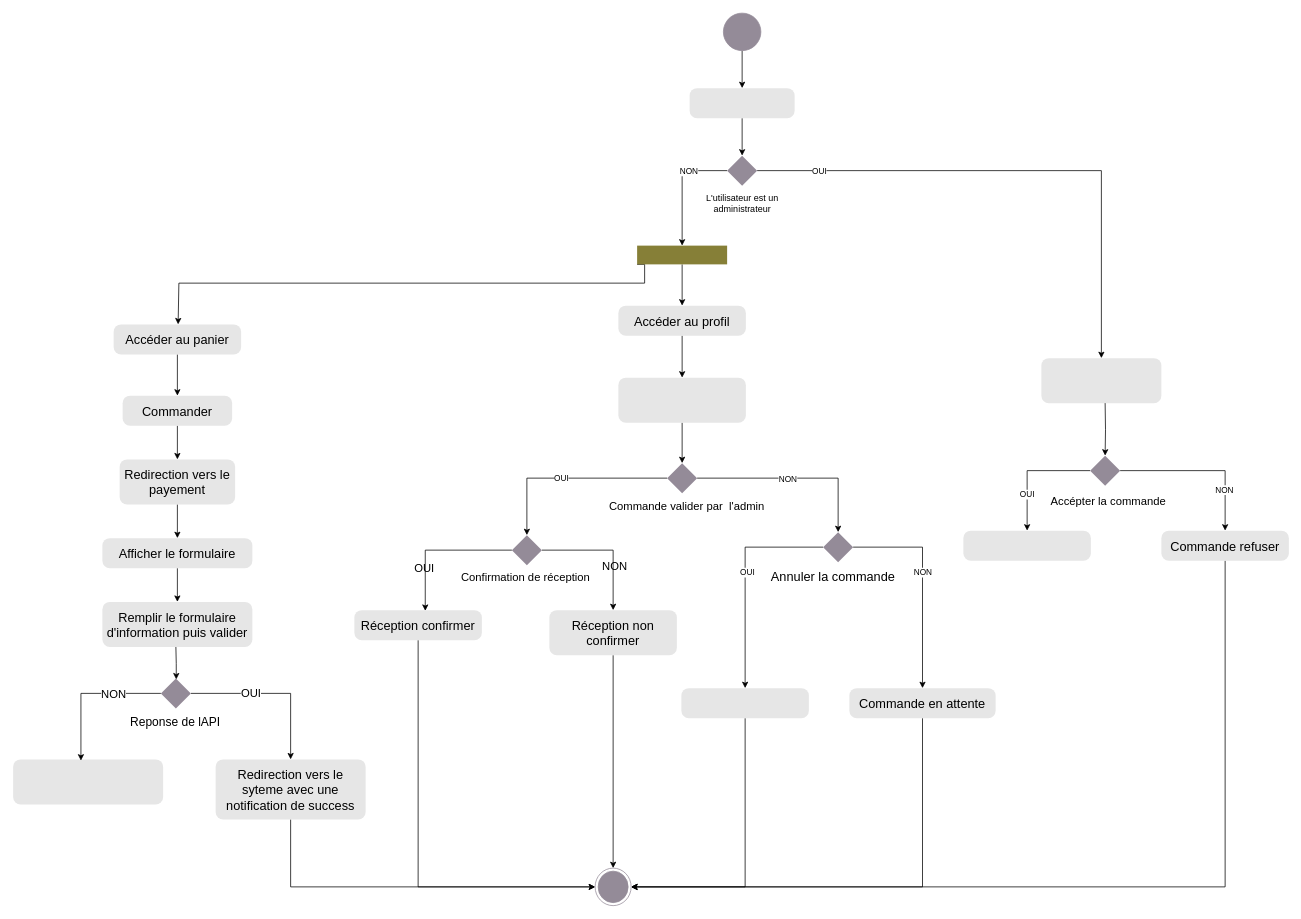
Some shapes in this 1301 by 919 pixel diagram are drawn without their labels. The shapes that lost their labels are listed below. From the top down, each one's box as (x1, y1, x2, y2) in pixels, then its label:
(689, 88, 794, 118): Authentification
(618, 377, 746, 422): Acc éder au Commandes
(1041, 358, 1161, 403): Afficher les satus des commande
(963, 530, 1090, 560): Commande accépter
(681, 688, 808, 718): Commande annuler
(13, 759, 163, 804): Afficher une notification de d'erreur
